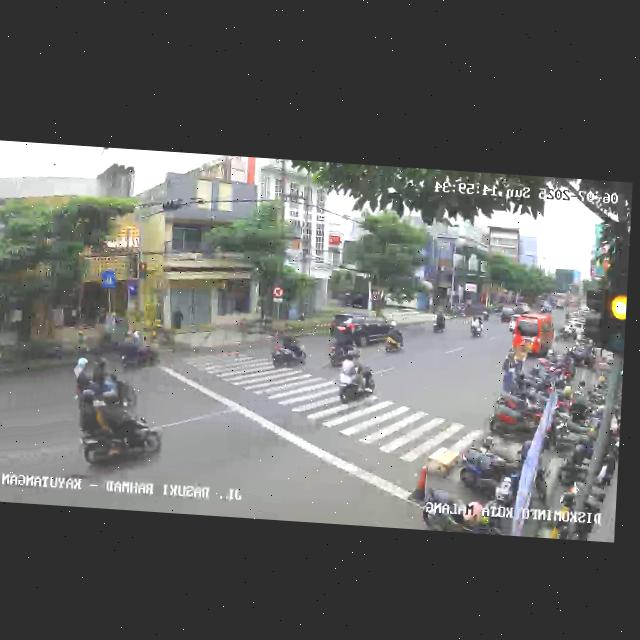car: (330, 311, 399, 350), (510, 311, 555, 358)
motorcycle: (78, 396, 160, 475), (69, 353, 142, 410), (337, 350, 379, 406), (110, 329, 159, 374), (269, 329, 308, 372), (329, 333, 361, 370), (383, 319, 406, 356), (468, 313, 485, 341), (432, 310, 447, 335)
